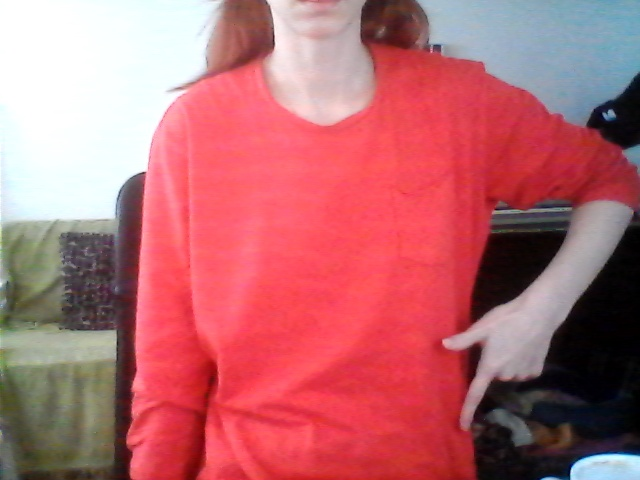policia: (436, 291, 565, 433)
